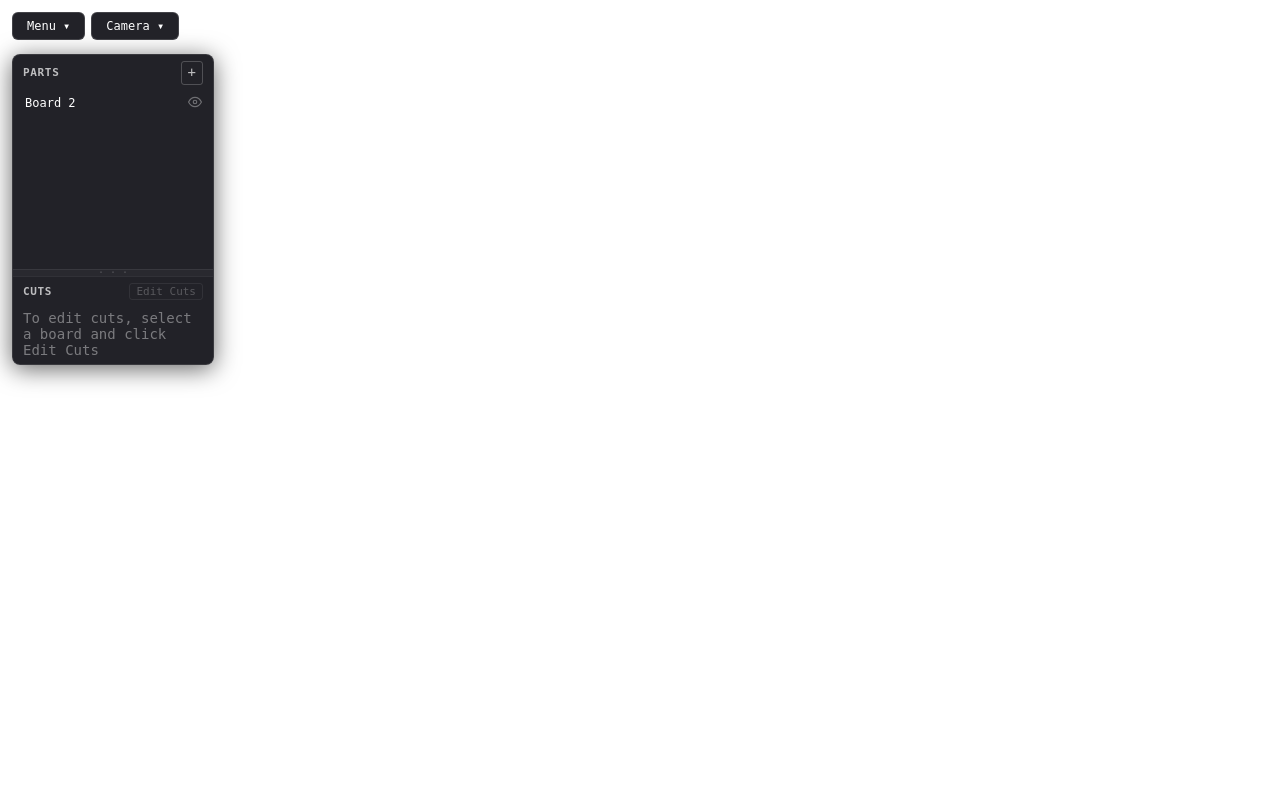
Test: App - modify mode child selection › PartPanel shows operation toggle after selecting a child
# Select parent and enter modify mode
Click the list item "Board 2" at (50, 103), box [25,95,203,111]
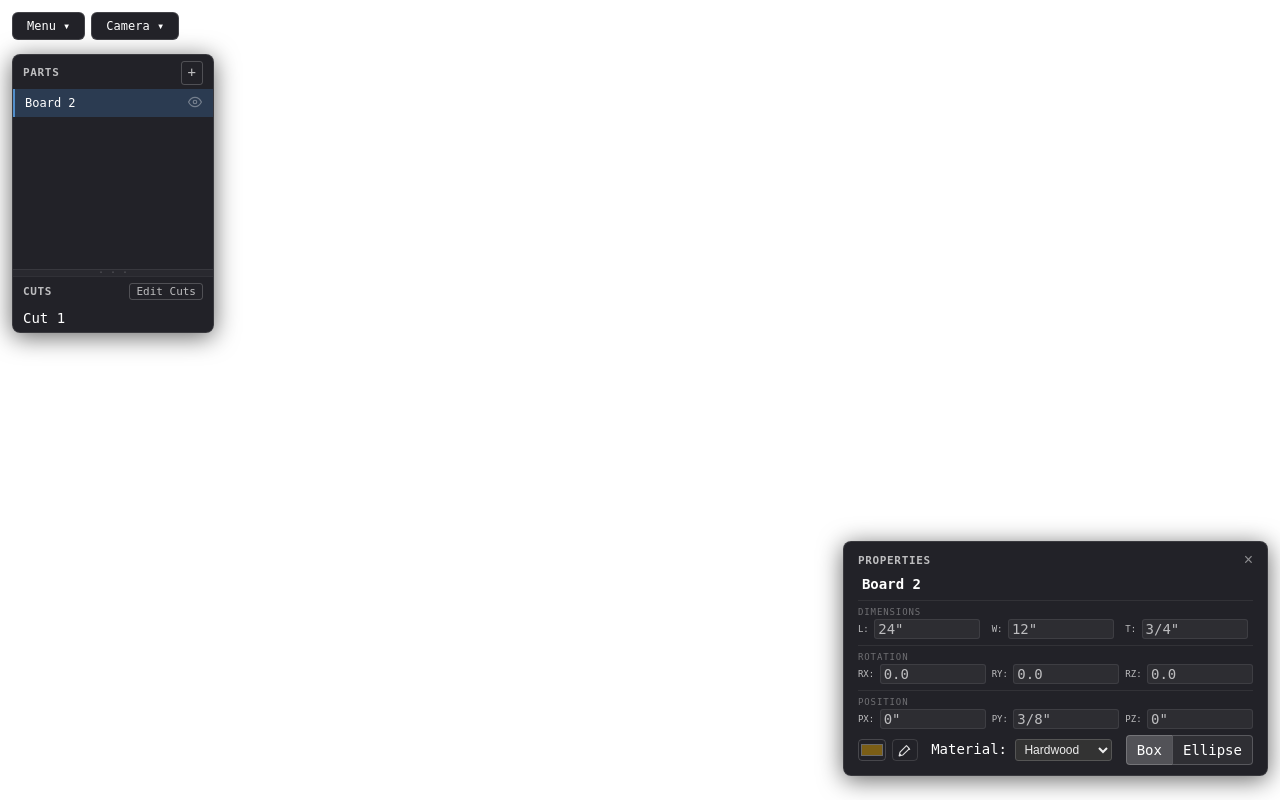
Click the button "Edit Cuts" at (166, 291), box [129,283,203,300]
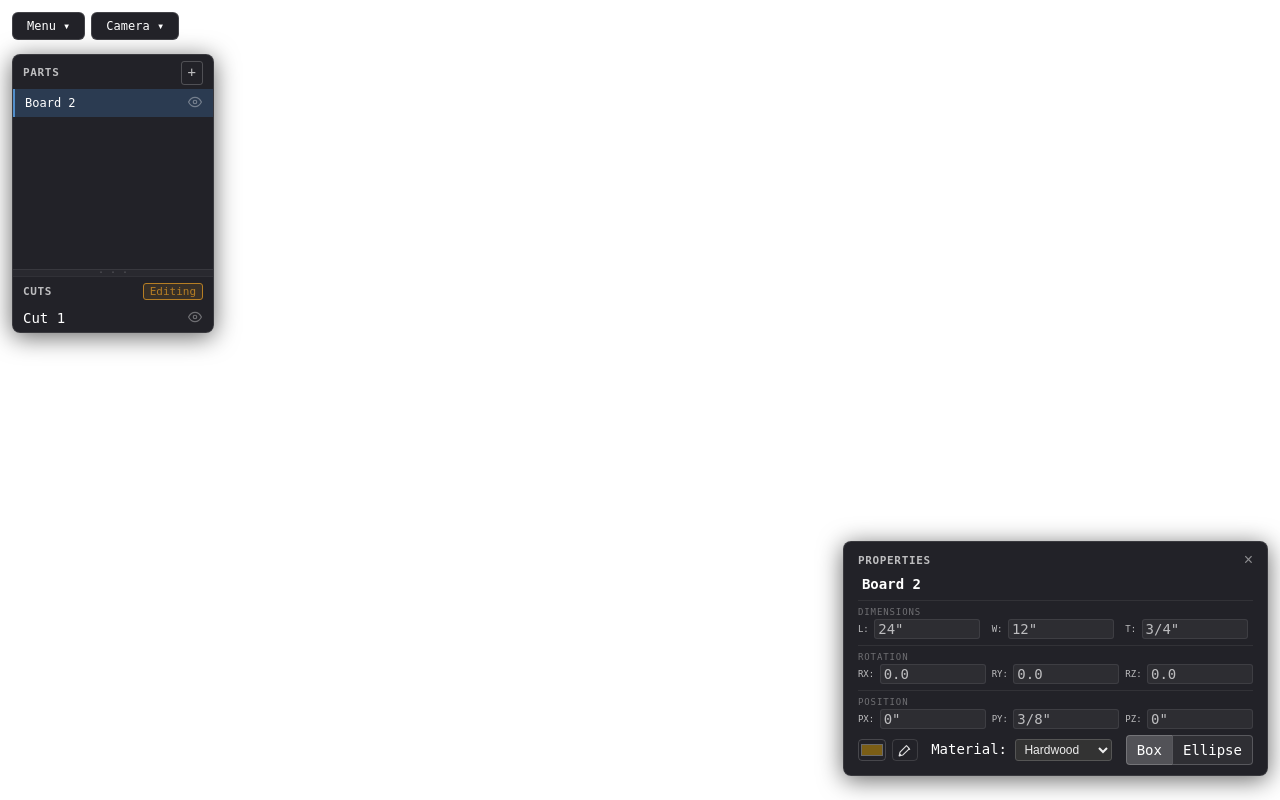
# Click child
Click the list item "Cut 1" at (44, 318), box [23,310,203,326]
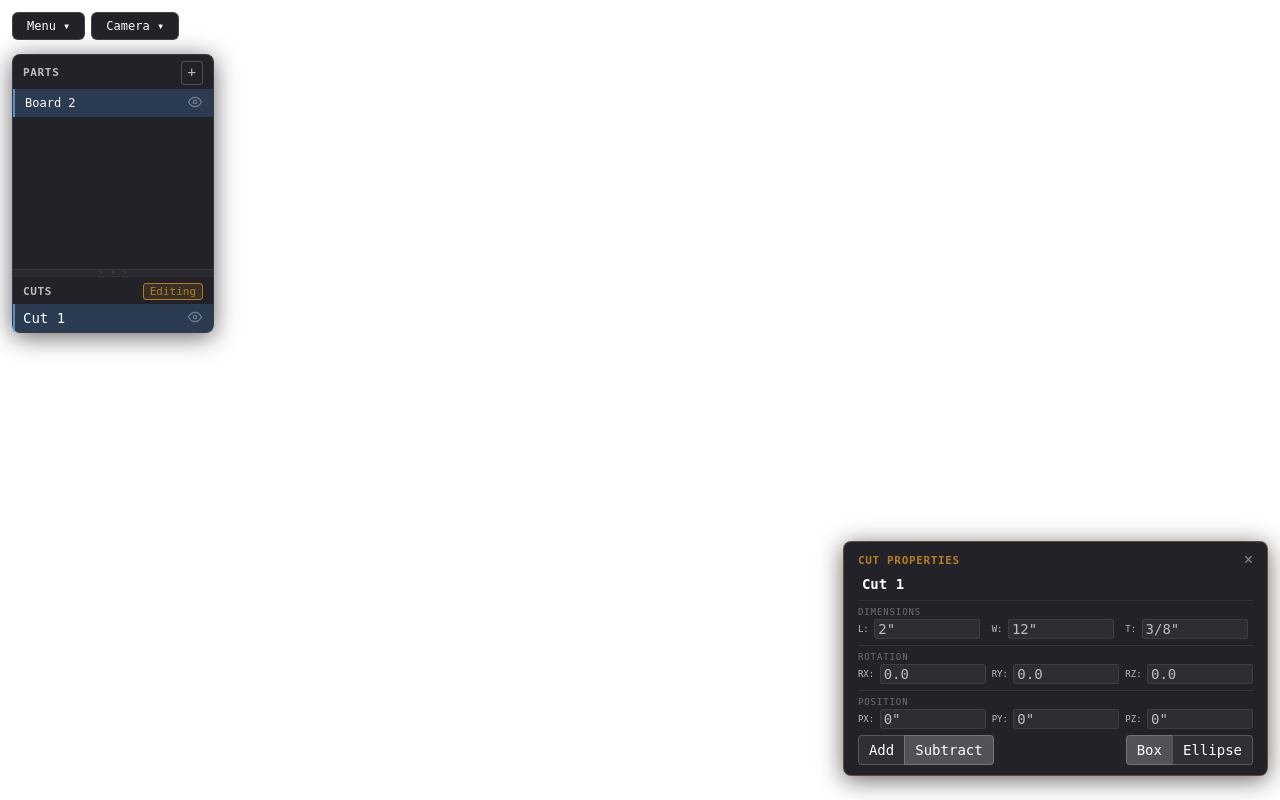
Now the element showing "Add Subtract" is shown, box [858,735,994,765]
